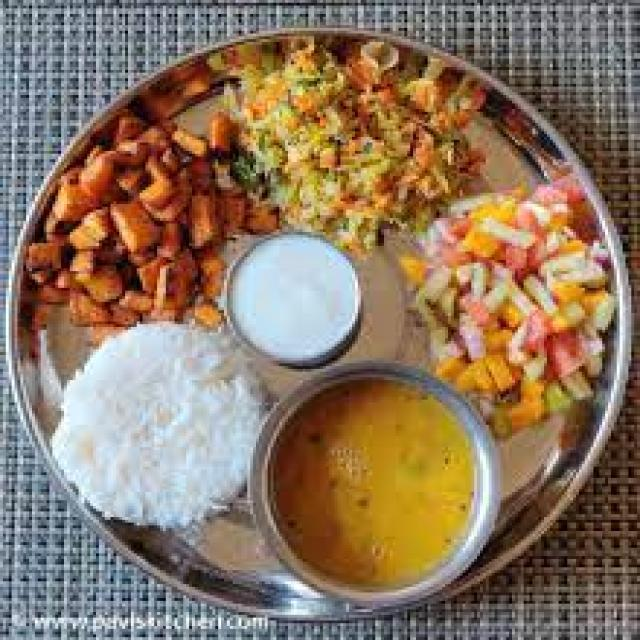curd: (215, 222, 376, 371)
dal: (271, 381, 486, 587)
rice: (72, 322, 259, 528)
sweet: (190, 509, 276, 579)
